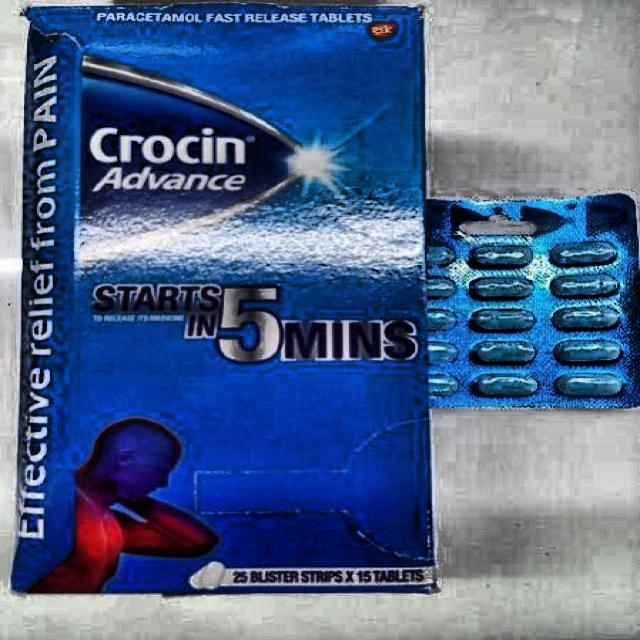Crocin: (75, 80, 281, 257)
